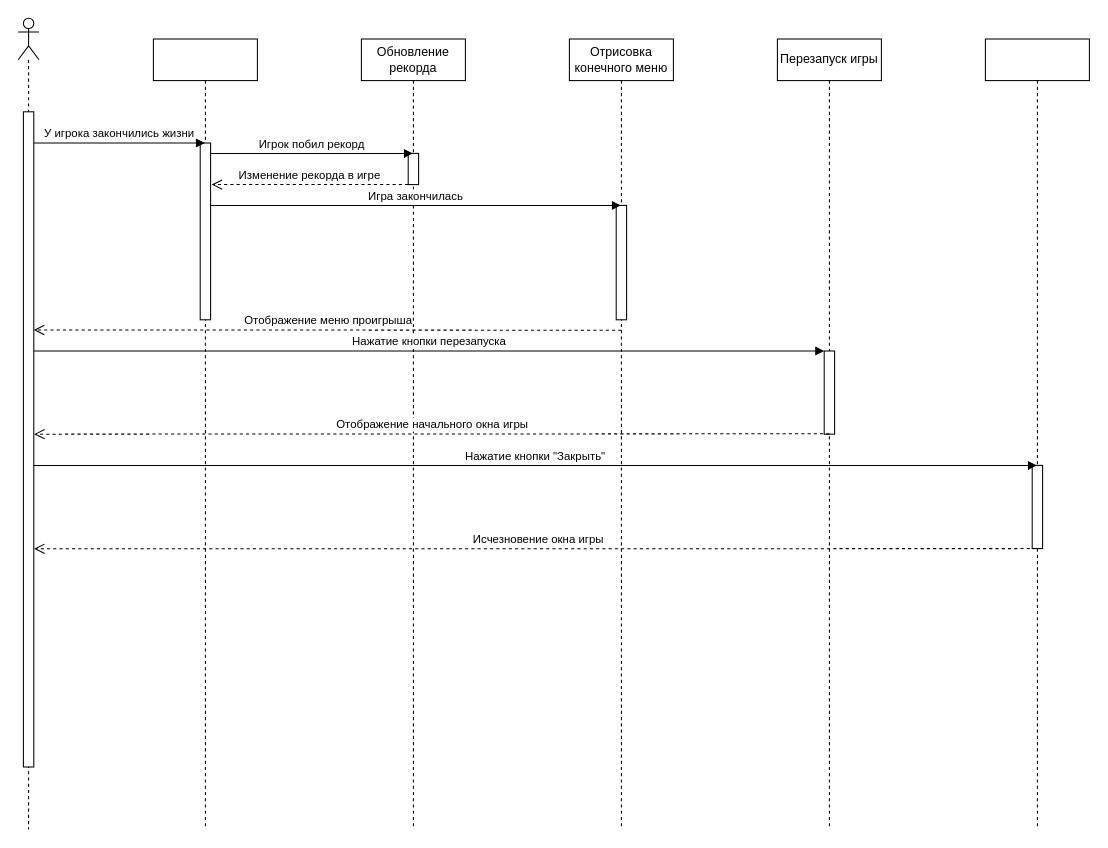
The diagram is 1108 pixels wide and 848 high, and some of its shapes have lost their labels. The shapes that lost their labels are listed below. From the top down, each one's box as (x1, y1, x2, y2) in pixels, then its label:
(152, 38, 257, 829): Остановка игры
(984, 38, 1089, 829): Закрытие окна игры
